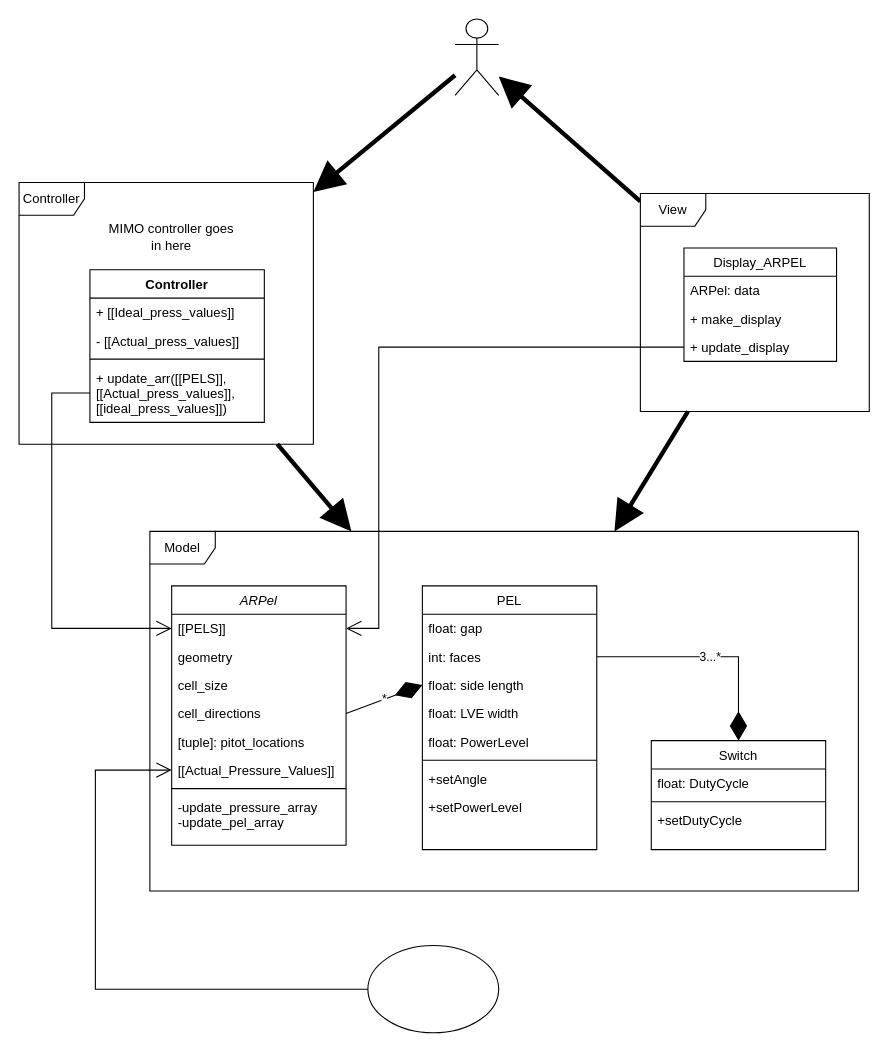
Some shapes in this 888 by 1052 pixel diagram are drawn without their labels. Each missing label, with the centre of its shape:
Environment: pixel 433 988
User: pixel 476 56
